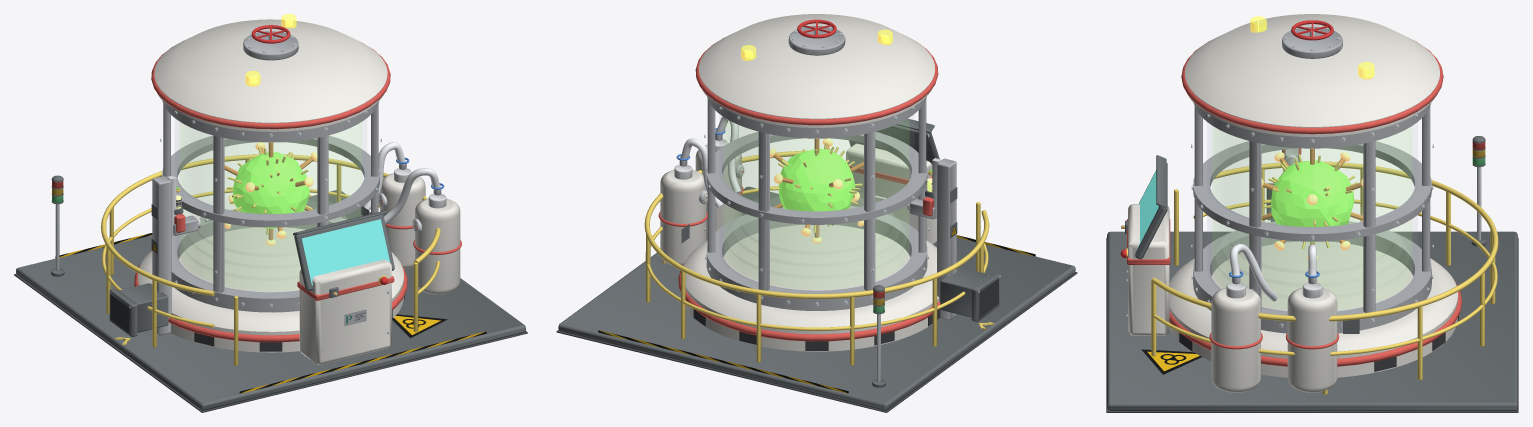
The model's file is camara_cepa.glb.
3 renders of one model, left to right at view 1: azimuth 30°, elevation 25°; view 2: azimuth 150°, elevation 25°; view 3: azimuth 270°, elevation 25°, orthographic. The views are drawn at different scales.
Parts seen in each view (by area): view 1: zocalo, tapa, pedestal, consola_pie, anillo_med, capside, anillo_inf, criotanque0, pantalla, criotanque1, iny_columna, baranda_pasamanos (+19 smaller); view 2: zocalo, tapa, pedestal, anillo_inf, anillo_med, capside, criotanque1, baranda_pasamanos, consola_pie, iny_columna, anillo_sup, tapa_franja (+16 smaller); view 3: zocalo, tapa, pedestal, anillo_med, anillo_inf, criotanque0, criotanque1, capside, consola_pie, baranda_pasamanos, anillo_sup, tapa_franja (+17 smaller).
Boxes of the visible parts, <box> form: zocalo: <box>16,190,525,410</box>; tapa: <box>154,19,387,131</box>; pedestal: <box>138,227,403,352</box>; consola_pie: <box>299,259,391,364</box>; anillo_med: <box>162,135,379,227</box>; capside: <box>233,152,309,228</box>; anillo_inf: <box>171,209,346,312</box>; criotanque0: <box>415,198,460,294</box>; pantalla: <box>302,219,389,285</box>; criotanque1: <box>380,173,425,268</box>; iny_columna: <box>152,176,171,335</box>; baranda_pasamanos: <box>101,154,440,296</box>; zocalo: <box>558,186,1075,410</box>; tapa: <box>698,14,935,127</box>; pedestal: <box>683,224,939,351</box>; anillo_inf: <box>706,206,927,310</box>; anillo_med: <box>706,131,927,224</box>; capside: <box>779,148,855,225</box>; criotanque1: <box>660,169,706,265</box>; baranda_pasamanos: <box>644,150,989,298</box>; consola_pie: <box>846,143,936,244</box>; iny_columna: <box>937,158,956,320</box>; anillo_sup: <box>707,96,926,138</box>; tapa_franja: <box>695,38,938,125</box>; zocalo: <box>1107,231,1517,410</box>; tapa: <box>1184,14,1440,136</box>; pedestal: <box>1169,241,1458,377</box>; anillo_med: <box>1193,141,1431,241</box>; anillo_inf: <box>1193,221,1431,333</box>; criotanque0: <box>1211,288,1260,392</box>; criotanque1: <box>1287,288,1337,392</box>; capside: <box>1271,160,1354,242</box>; consola_pie: <box>1128,204,1169,335</box>; baranda_pasamanos: <box>1151,161,1498,321</box>; anillo_sup: <box>1194,103,1430,148</box>; tapa_franja: <box>1181,40,1443,134</box>.
Size of the model in its own units: 2.97 by 2.4 by 2.97.
42 materials, 4 textured.
